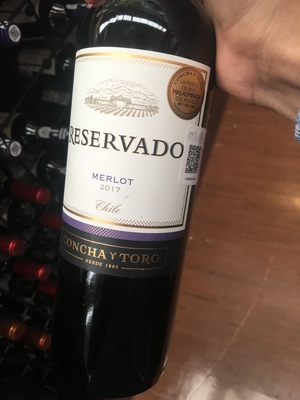reservado merlot: (52, 13, 210, 361)
